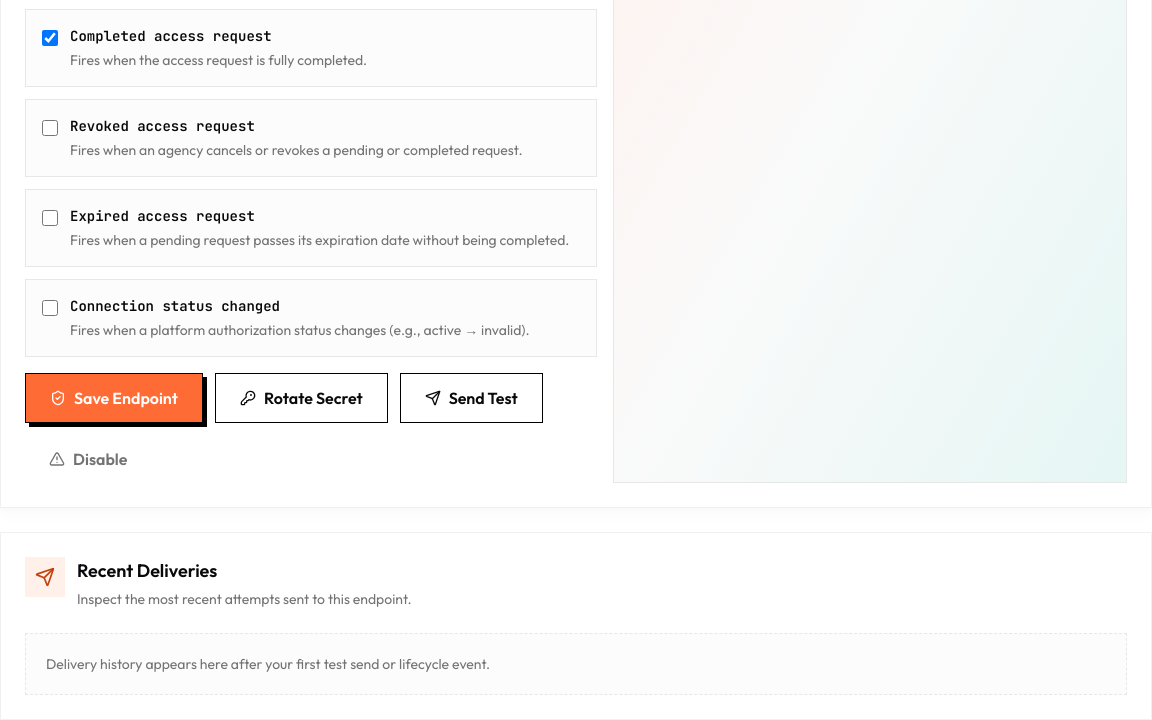
Scenario: WebhookSettingsTab › rotates the signing secret and reveals the new handoff value
(page scrolled)
Click the button "Rotate Secret" at [301, 398], box [215,373,388,423]
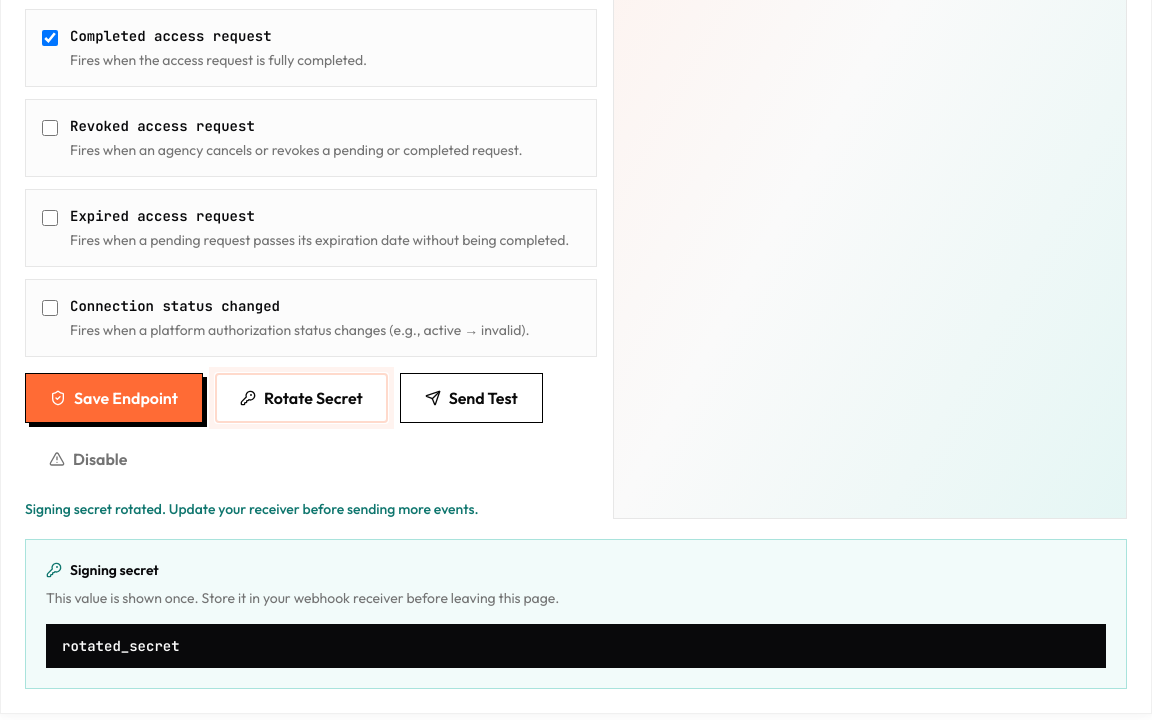
Check: the text "Signing secret rotated. Update your receiver before sending more events." is shown, box [25,500,478,518]
Check: the text "rotated_secret" is shown, box [46,624,1106,668]
